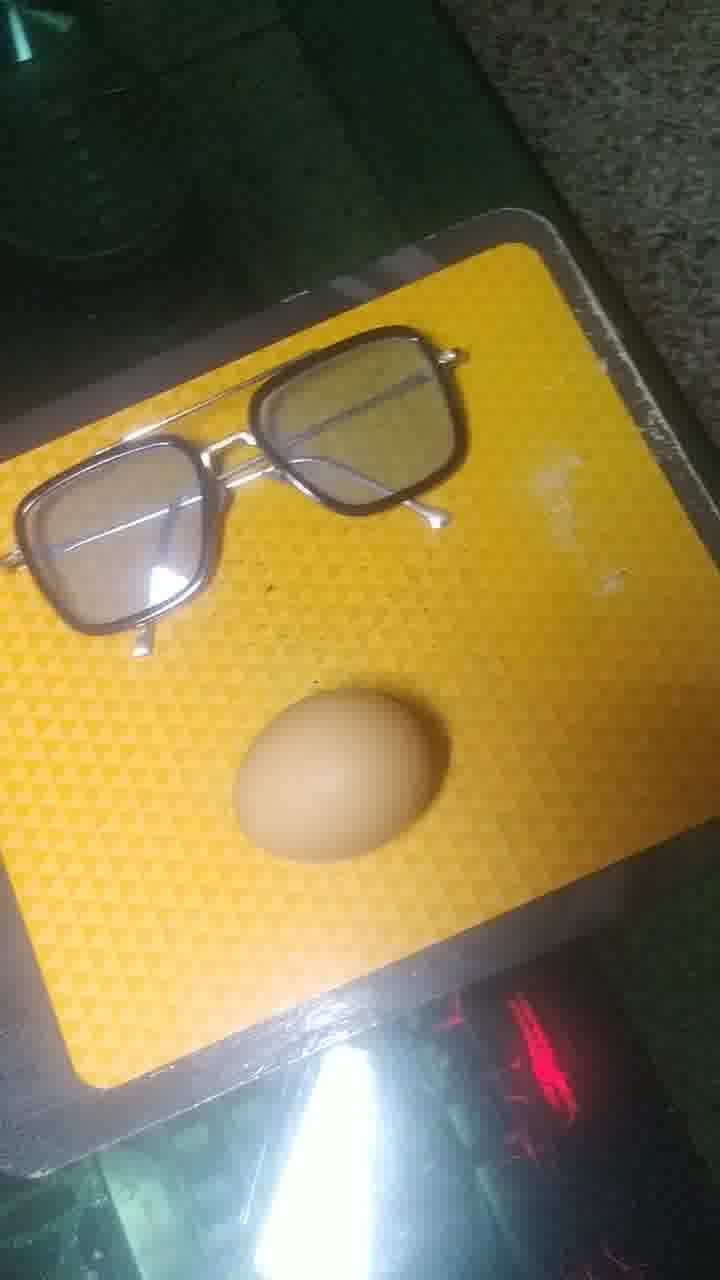egg: (228, 676, 457, 873)
sunglass: (3, 318, 523, 664)
